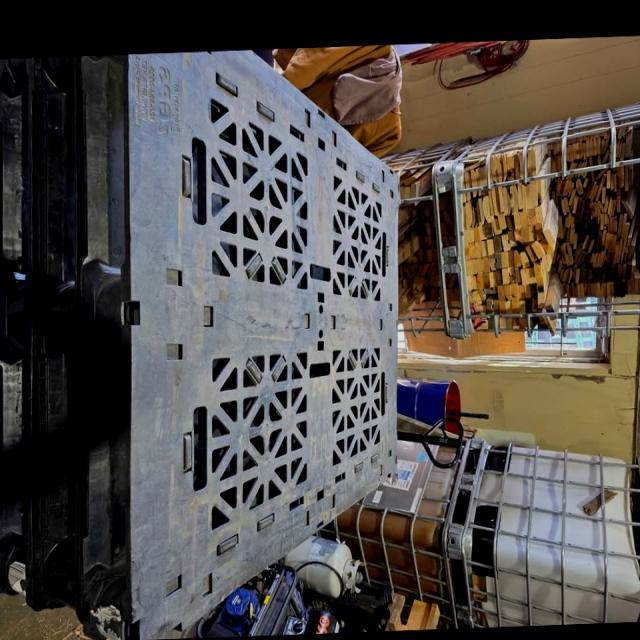igps: (75, 43, 407, 639), (28, 56, 82, 606), (3, 62, 33, 619)
